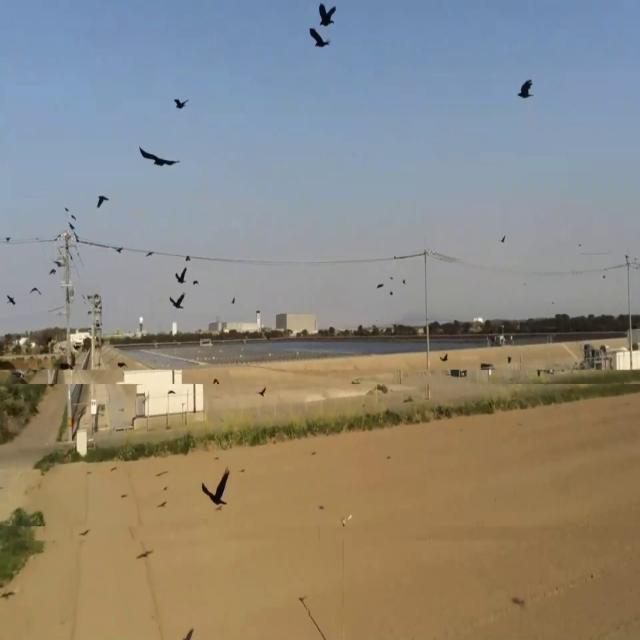bird: (201, 464, 231, 520), (139, 138, 178, 180), (310, 1, 335, 45), (309, 18, 332, 56), (518, 72, 532, 105), (174, 260, 188, 290), (169, 290, 185, 316), (174, 92, 189, 115), (96, 187, 108, 214), (29, 280, 41, 300), (49, 258, 59, 280), (6, 290, 16, 310), (258, 381, 267, 402), (168, 377, 176, 398), (114, 242, 122, 259), (376, 277, 384, 293), (170, 372, 176, 390), (212, 375, 219, 389), (500, 230, 506, 246), (193, 276, 198, 290), (402, 275, 406, 286)
